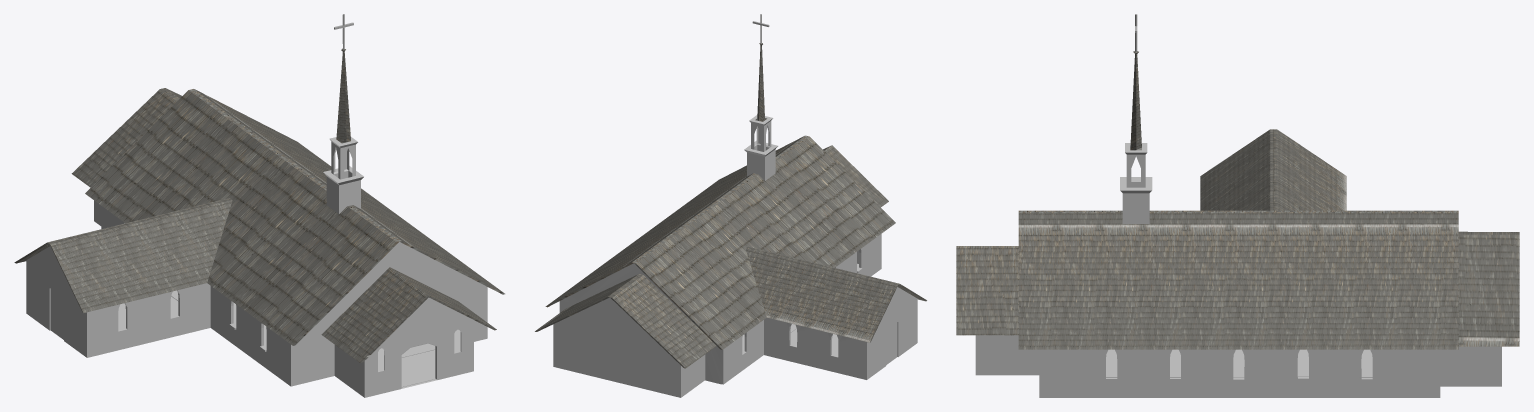
Rendered from Church.fbx.
3 renders of one model, left to right at view 1: azimuth 30°, elevation 25°; view 2: azimuth 150°, elevation 25°; view 3: azimuth 270°, elevation 25°, orthographic. The views are drawn at different scales.
Parts seen in each view (by area): view 1: polySurface211, polySurface112, polySurface205, polySurface204, polySurface212, polySurface111, polySurface129, polySurface159, polySurface203, polySurface208, polySurface116, polySurface200 (+3 smaller); view 2: polySurface211, polySurface112, polySurface205, polySurface117, polySurface111, polySurface212, polySurface131, polySurface203, polySurface204, polySurface119, polySurface206, polySurface110 (+1 smaller); view 3: polySurface212, polySurface133, polySurface205, polySurface111, polySurface204, polySurface112, polySurface113, polySurface207, polySurface203, polySurface211, polySurface200, polySurface206.
Part boxes in pixels (x1,y1,x2,y2): polySurface211: (85, 89, 398, 345); polySurface112: (26, 205, 473, 397); polySurface205: (14, 198, 232, 312); polySurface204: (321, 267, 496, 362); polySurface212: (191, 89, 504, 294); polySurface111: (71, 88, 181, 187); polySurface129: (389, 242, 485, 295); polySurface159: (210, 286, 261, 345); polySurface203: (323, 166, 363, 213); polySurface208: (401, 350, 435, 387); polySurface116: (447, 286, 487, 341); polySurface200: (336, 48, 350, 143); polySurface211: (634, 136, 895, 349); polySurface112: (559, 234, 917, 384); polySurface205: (745, 246, 926, 342); polySurface117: (553, 323, 680, 397); polySurface111: (535, 274, 716, 368); polySurface212: (545, 135, 806, 307); polySurface131: (556, 297, 663, 349); polySurface203: (744, 140, 777, 180); polySurface204: (823, 145, 888, 207); polySurface119: (681, 354, 705, 397); polySurface206: (749, 115, 772, 151); polySurface110: (886, 322, 897, 364); polySurface212: (1018, 212, 1458, 349); polySurface133: (1039, 349, 1440, 397); polySurface205: (1200, 129, 1346, 210); polySurface111: (1458, 231, 1519, 346); polySurface204: (956, 246, 1018, 335); polySurface112: (1103, 346, 1501, 397); polySurface113: (975, 335, 1039, 375); polySurface207: (1106, 349, 1372, 376); polySurface203: (1120, 177, 1152, 223); polySurface211: (1018, 210, 1458, 211); polySurface200: (1130, 51, 1141, 150); polySurface206: (1125, 143, 1147, 187).
Size of what is drawn, in the model's own units: 3076 by 2758 by 4221.
